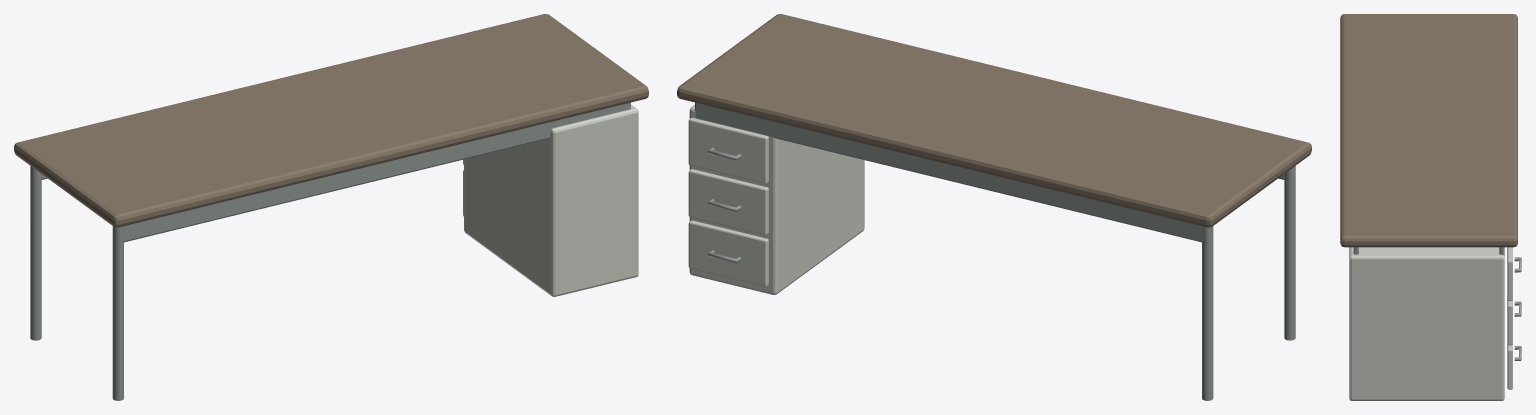
File: prep_island.glb
The picture shows the model from 3 angles, left to right: view 1: azimuth 30°, elevation 25°; view 2: azimuth 150°, elevation 25°; view 3: azimuth 270°, elevation 25°; orthographic projection. The views are drawn at different scales.
Visible parts, largest first — view 1: KitWood, KitIvory, KitSteel; view 2: KitWood, KitIvory, KitSteel; view 3: KitWood, KitIvory, KitSteel.
Boxes of the visible parts, x1,y1,x2,y2 form: KitWood: (14,14,648,227); KitIvory: (463,104,638,296); KitSteel: (30,102,630,400); KitWood: (677,14,1311,227); KitIvory: (688,104,864,294); KitSteel: (695,102,1295,400); KitWood: (1340,14,1517,247); KitIvory: (1349,247,1512,400); KitSteel: (1353,247,1521,360).
Bounding box in the file's own units: 2.4 × 0.8275 × 0.8164.
